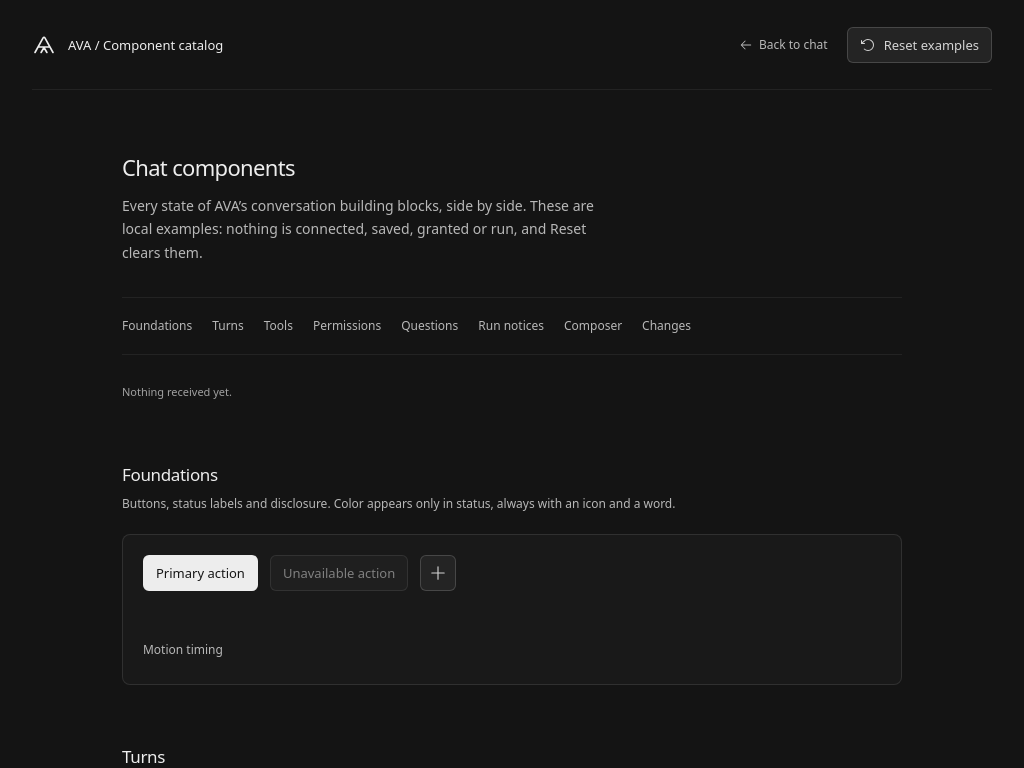
Test: browser-only component catalog › mounts every component family with plain titles and no shell navigation or execution/network actions
Expected: the heading "Foundations" is shown, [122,463,218,486]
Expected: the heading "Turns" is shown, [122,745,165,767]
Click the button named "Add item": (438, 573) [420,555,456,591]
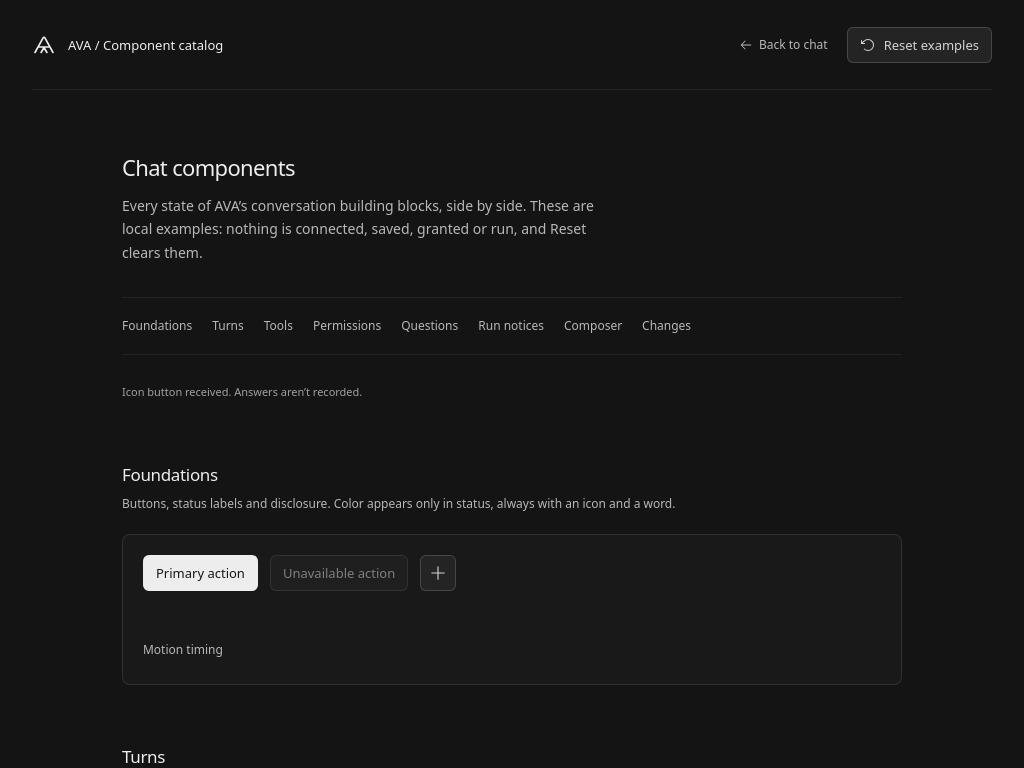
Expected: the text "nothing is connected, saved, granted or run" is shown, [122,196,594,262]
Result: the text "Icon button received. Answers aren’t recorded." is shown at [122,384,362,399]
